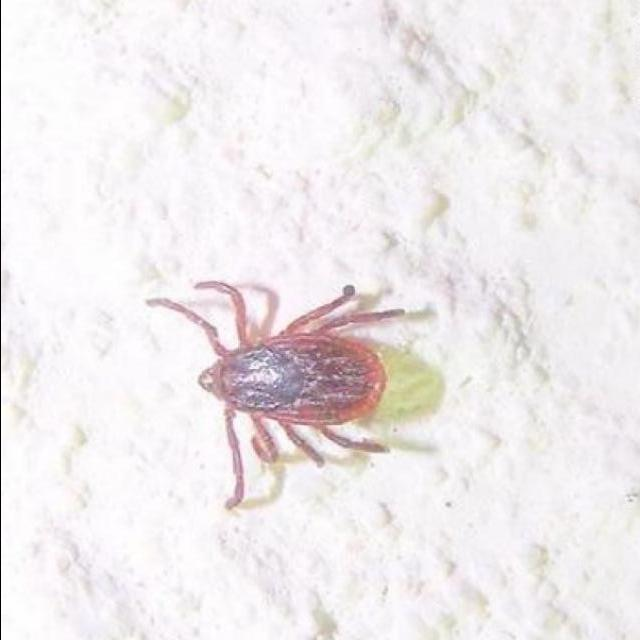Rhipicephalus Sanguineus-F: (146, 281, 432, 511)
